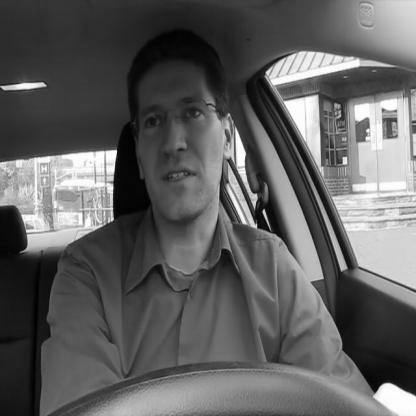no_seatbelt: (99, 7, 279, 399)
